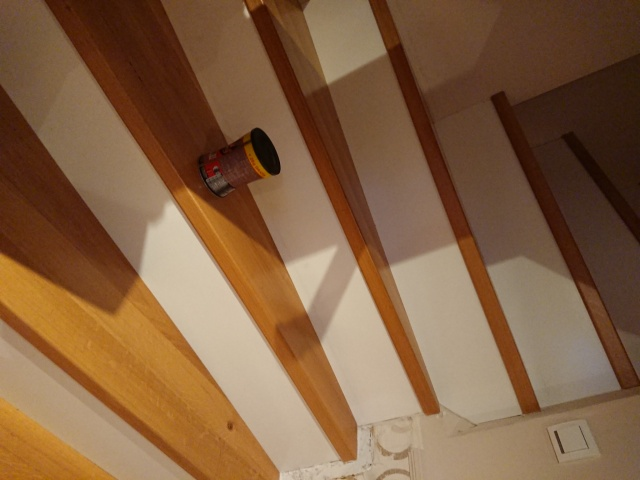Nescafe Classic 225g: (195, 125, 283, 201)
